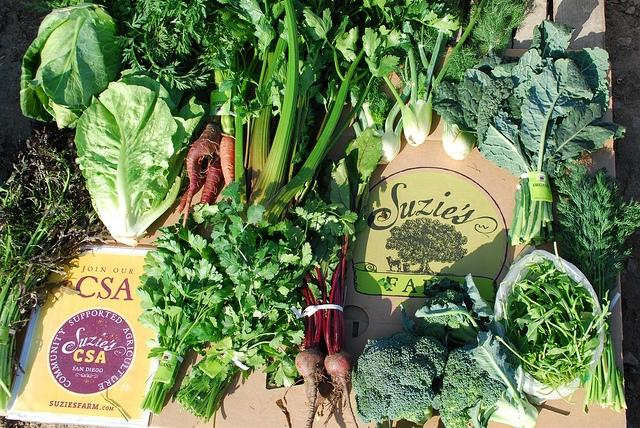broccoli: (439, 330, 537, 428), (350, 332, 450, 424), (415, 289, 483, 346)
celery: (263, 7, 402, 227), (212, 36, 277, 216), (245, 12, 288, 202)
radish: (304, 128, 382, 428), (182, 124, 221, 227), (294, 349, 326, 428)
